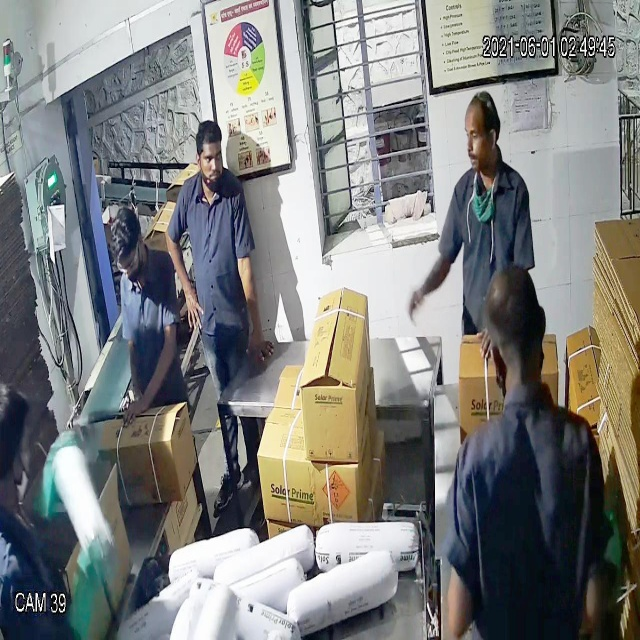Gafas: (114, 241, 145, 278)
Sin_gafas: (458, 119, 502, 152)
